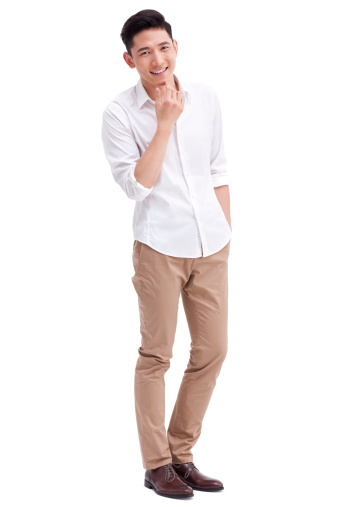em pe: (102, 5, 250, 507)
